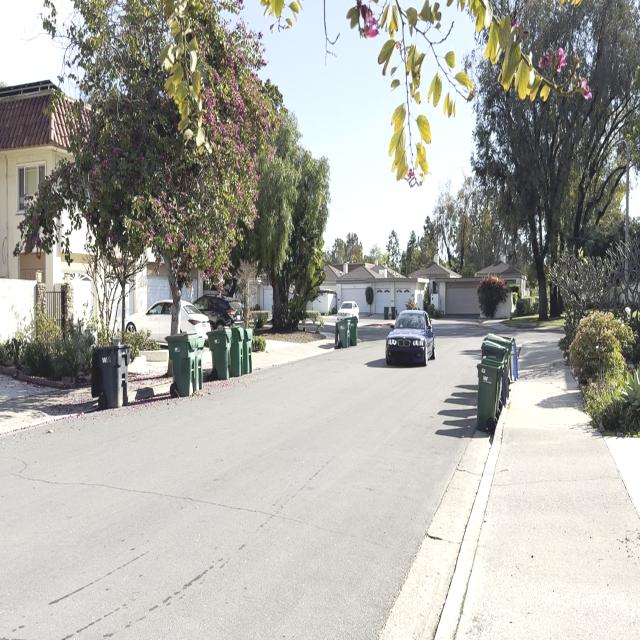Carbeetle: (378, 294, 441, 376)
